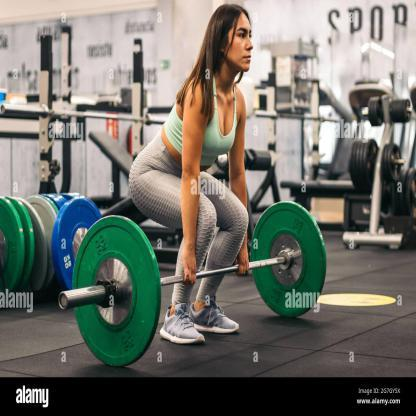Barbell: (67, 215, 164, 367), (251, 198, 329, 323)
